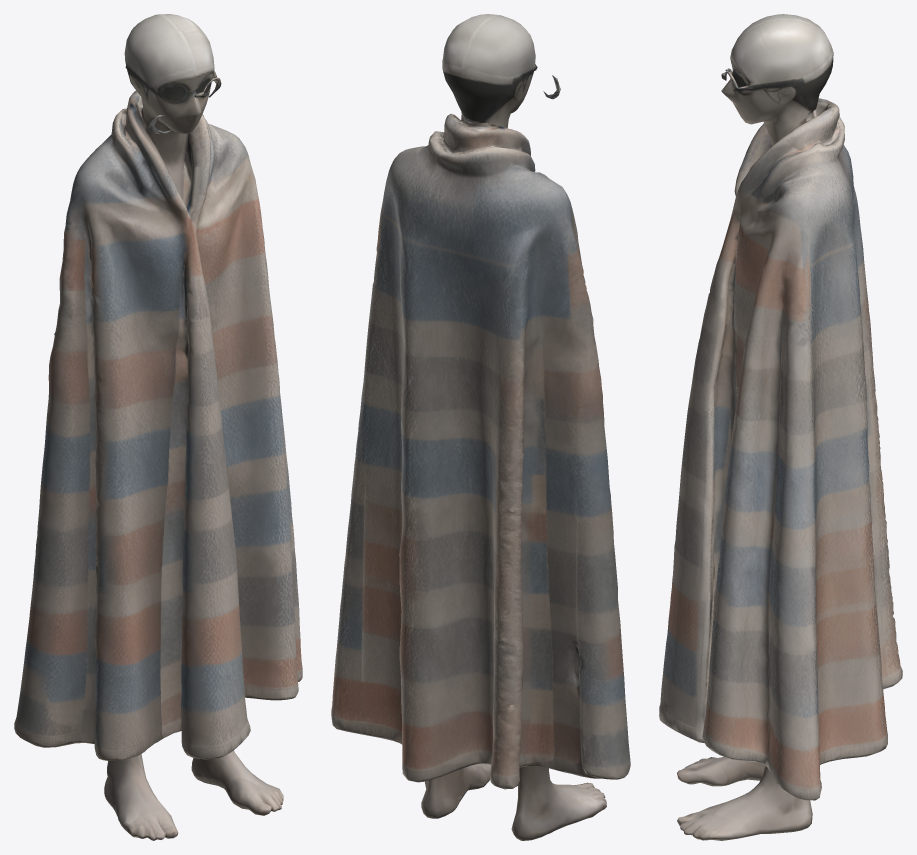
The model's file is VAR_PoolHall_SwimCapFigure.fbx.
The picture shows the model from 3 angles, left to right: view 1: azimuth 30°, elevation 25°; view 2: azimuth 150°, elevation 25°; view 3: azimuth 270°, elevation 25°; orthographic projection. The views are drawn at different scales.
Parts seen in each view (by area): view 1: texture_mapping; view 2: texture_mapping; view 3: texture_mapping.
Part boxes in pixels (<box>): texture_mapping: <box>14,14,302,840</box>; texture_mapping: <box>331,14,630,840</box>; texture_mapping: <box>659,14,902,840</box>.
Bounding box in the file's own units: 0.3788 × 0.2806 × 1.
1 material, 1 textured.
